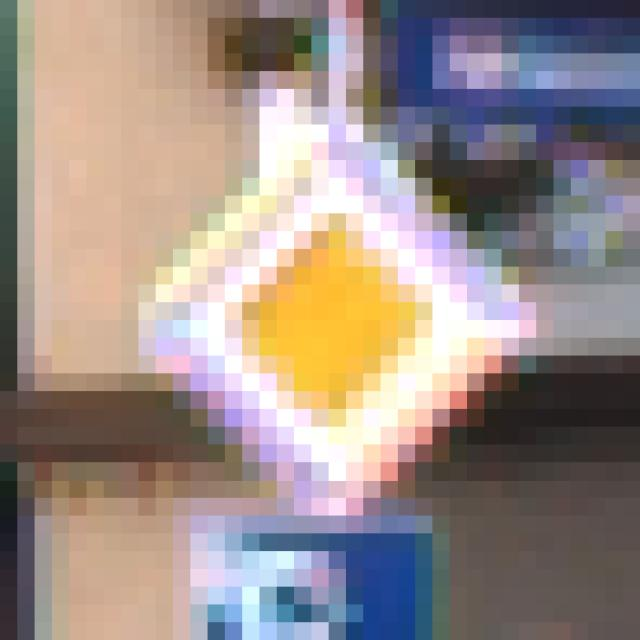Main Road: (105, 90, 554, 552)
